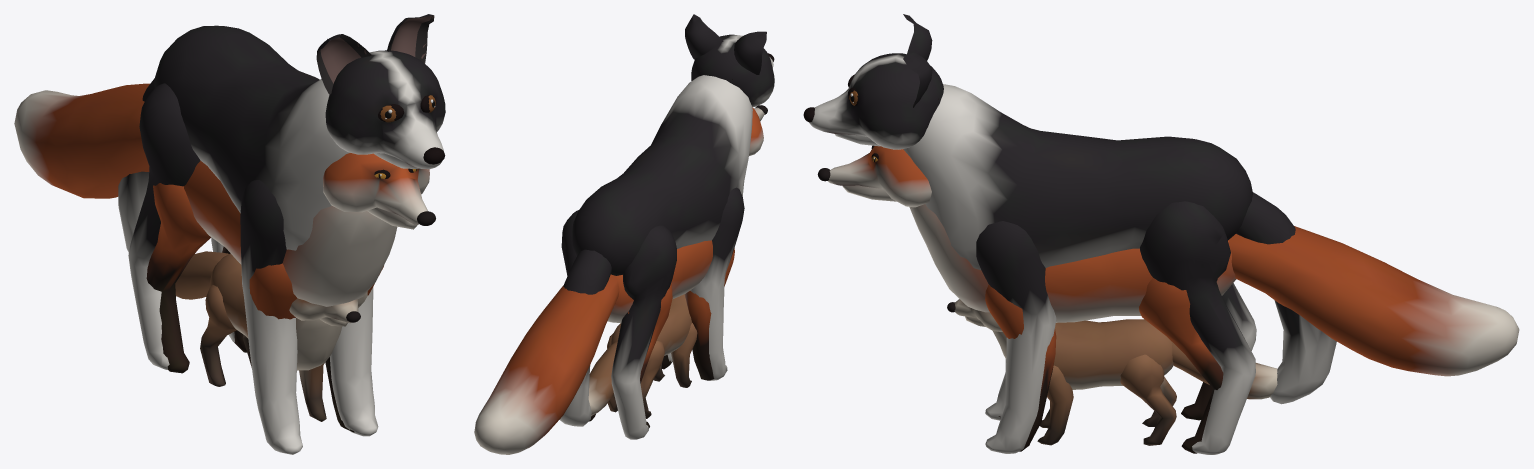
Rendered from beasts.glb.
The picture shows the model from 3 angles, left to right: view 1: azimuth 30°, elevation 25°; view 2: azimuth 150°, elevation 25°; view 3: azimuth 270°, elevation 25°; orthographic projection. The views are drawn at different scales.
Parts seen in each view (by area): view 1: collie, fox, cub; view 2: collie, fox, cub; view 3: collie, fox, cub.
Boxes of the visible parts, <box> form: collie: <box>118,14,445,454</box>; fox: <box>14,83,435,432</box>; cub: <box>175,251,367,421</box>; collie: <box>559,14,774,439</box>; fox: <box>474,71,767,454</box>; cub: <box>588,294,697,418</box>; collie: <box>803,14,1336,454</box>; fox: <box>817,98,1519,453</box>; cub: <box>947,299,1277,445</box>.
Size of the model in its own units: 0.2863 by 0.8092 by 1.31.
